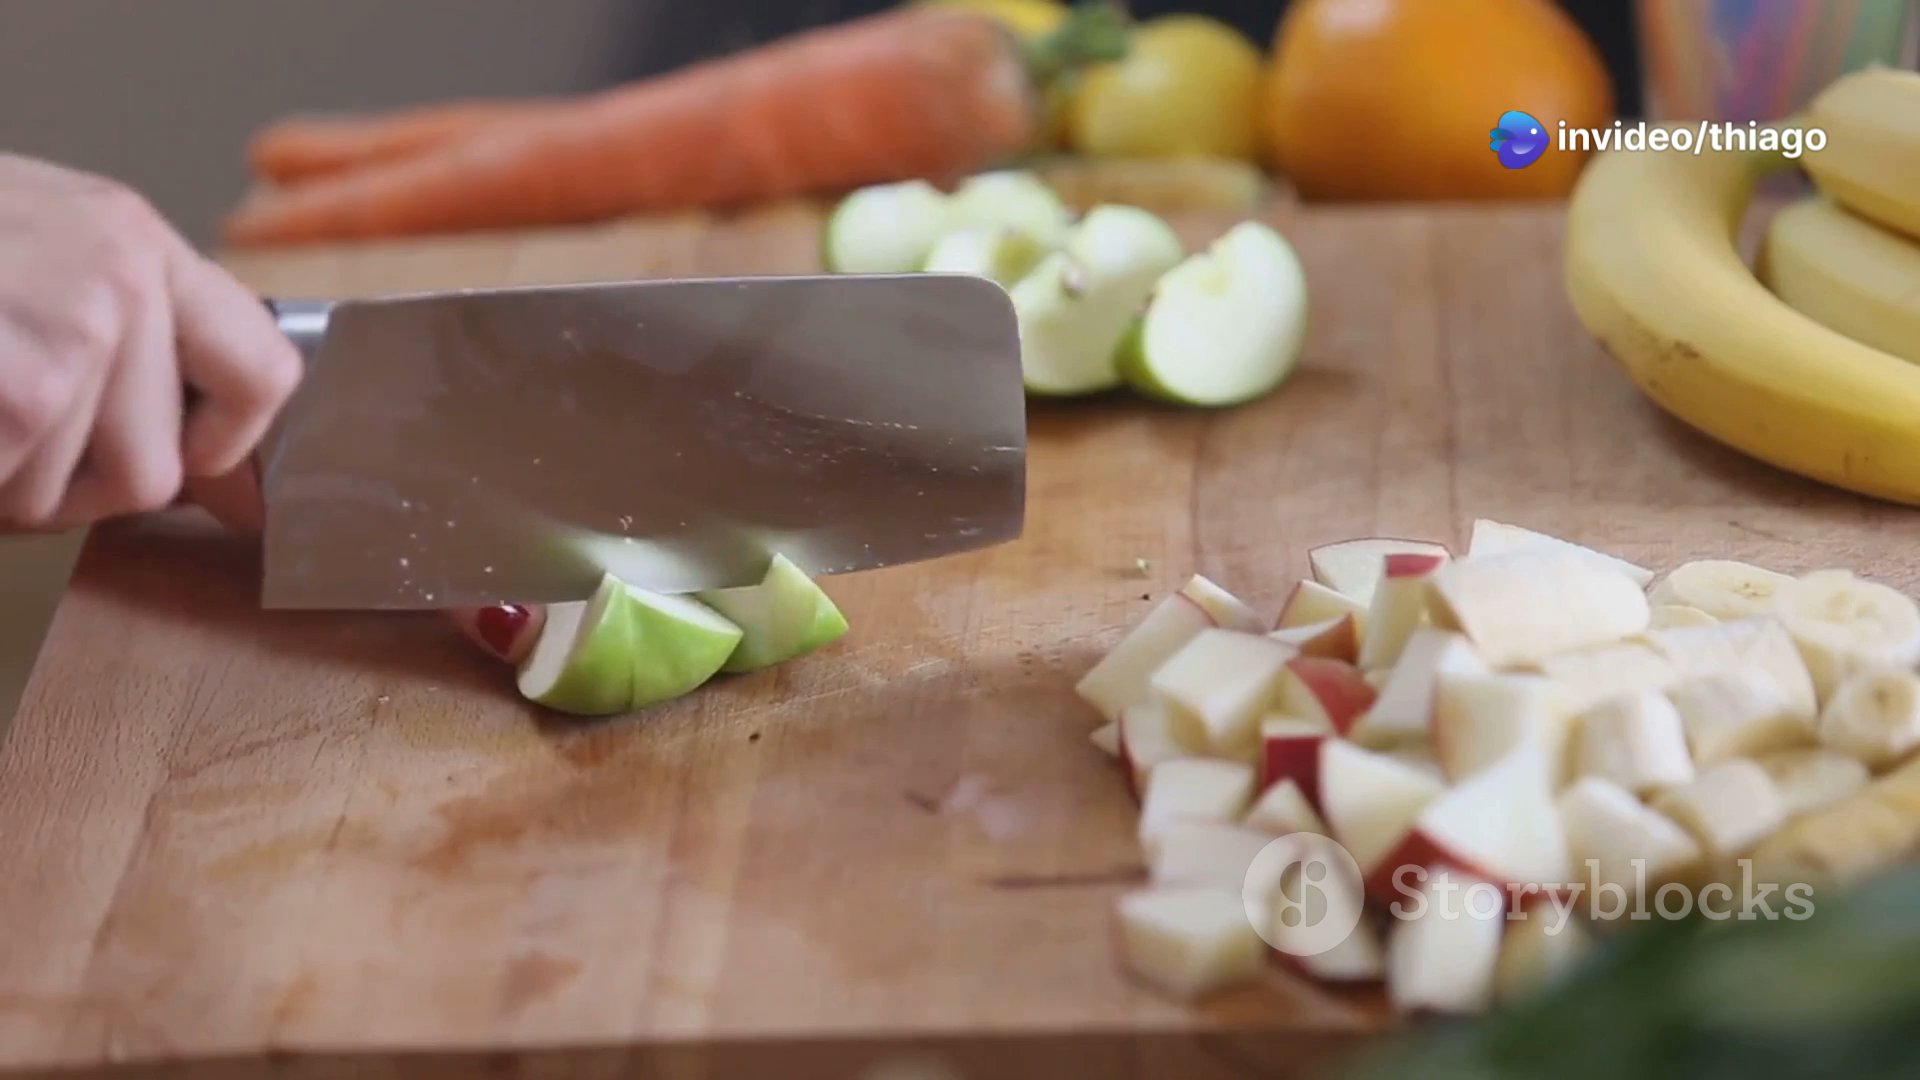cortante: (252, 273, 1029, 612)
